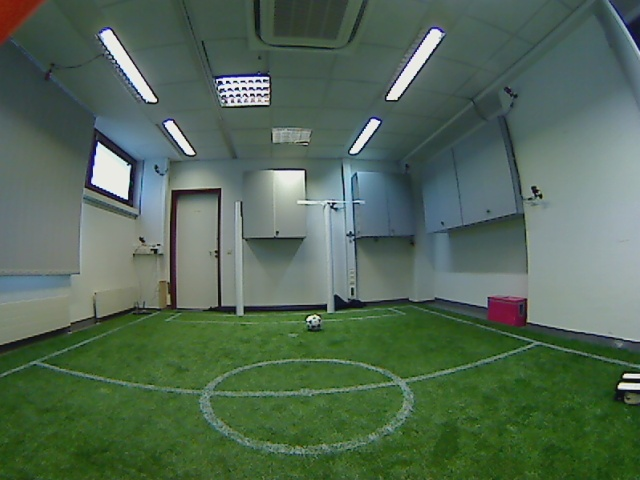ball: (299, 310, 328, 336)
